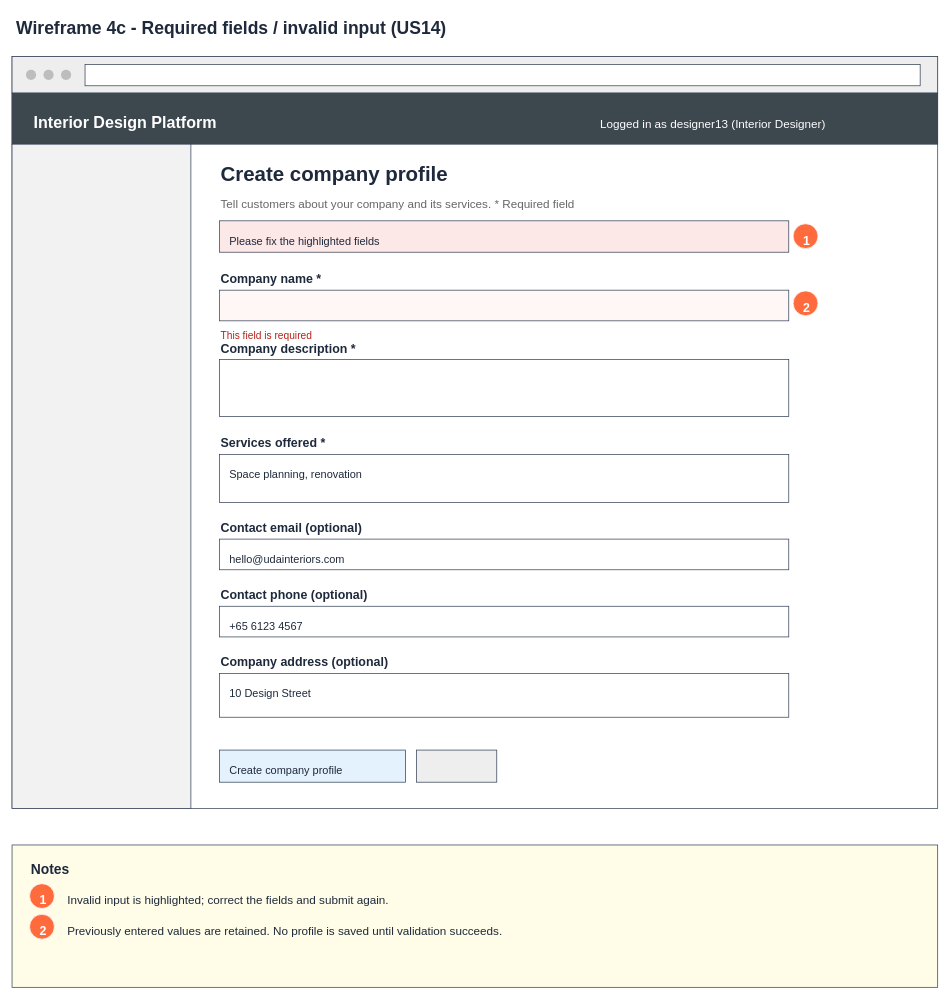
Image size: 950x999. Some labels were removed from this diagram. The box of each missing label's shape, as (x1, y1, x2, y2) in pixels:
Cancel: (416, 749, 497, 782)
Dashboard: (11, 143, 191, 808)
Interior design for homes.: (219, 359, 789, 416)
localhost:5000/designer/company/create: (84, 64, 920, 86)
